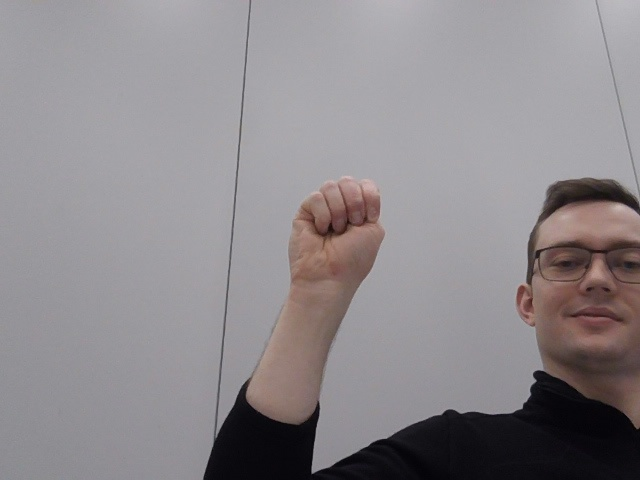down: (257, 169, 399, 310)
